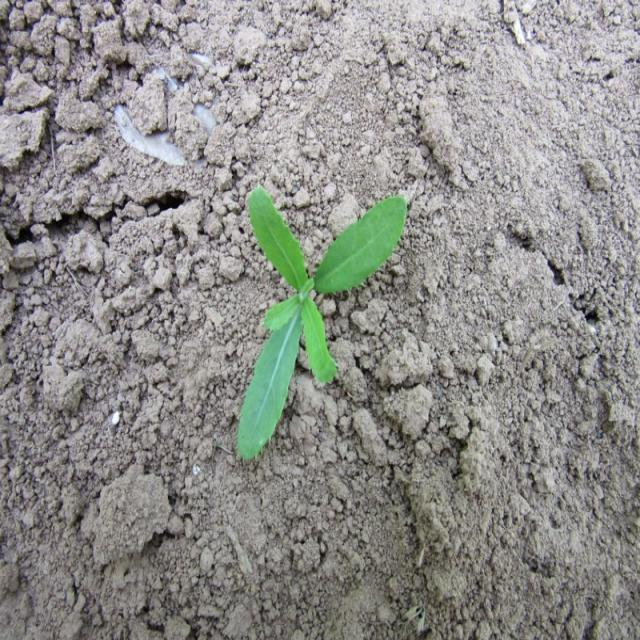field_thistle: (203, 163, 426, 465)
